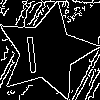I: (21, 26, 40, 74)
